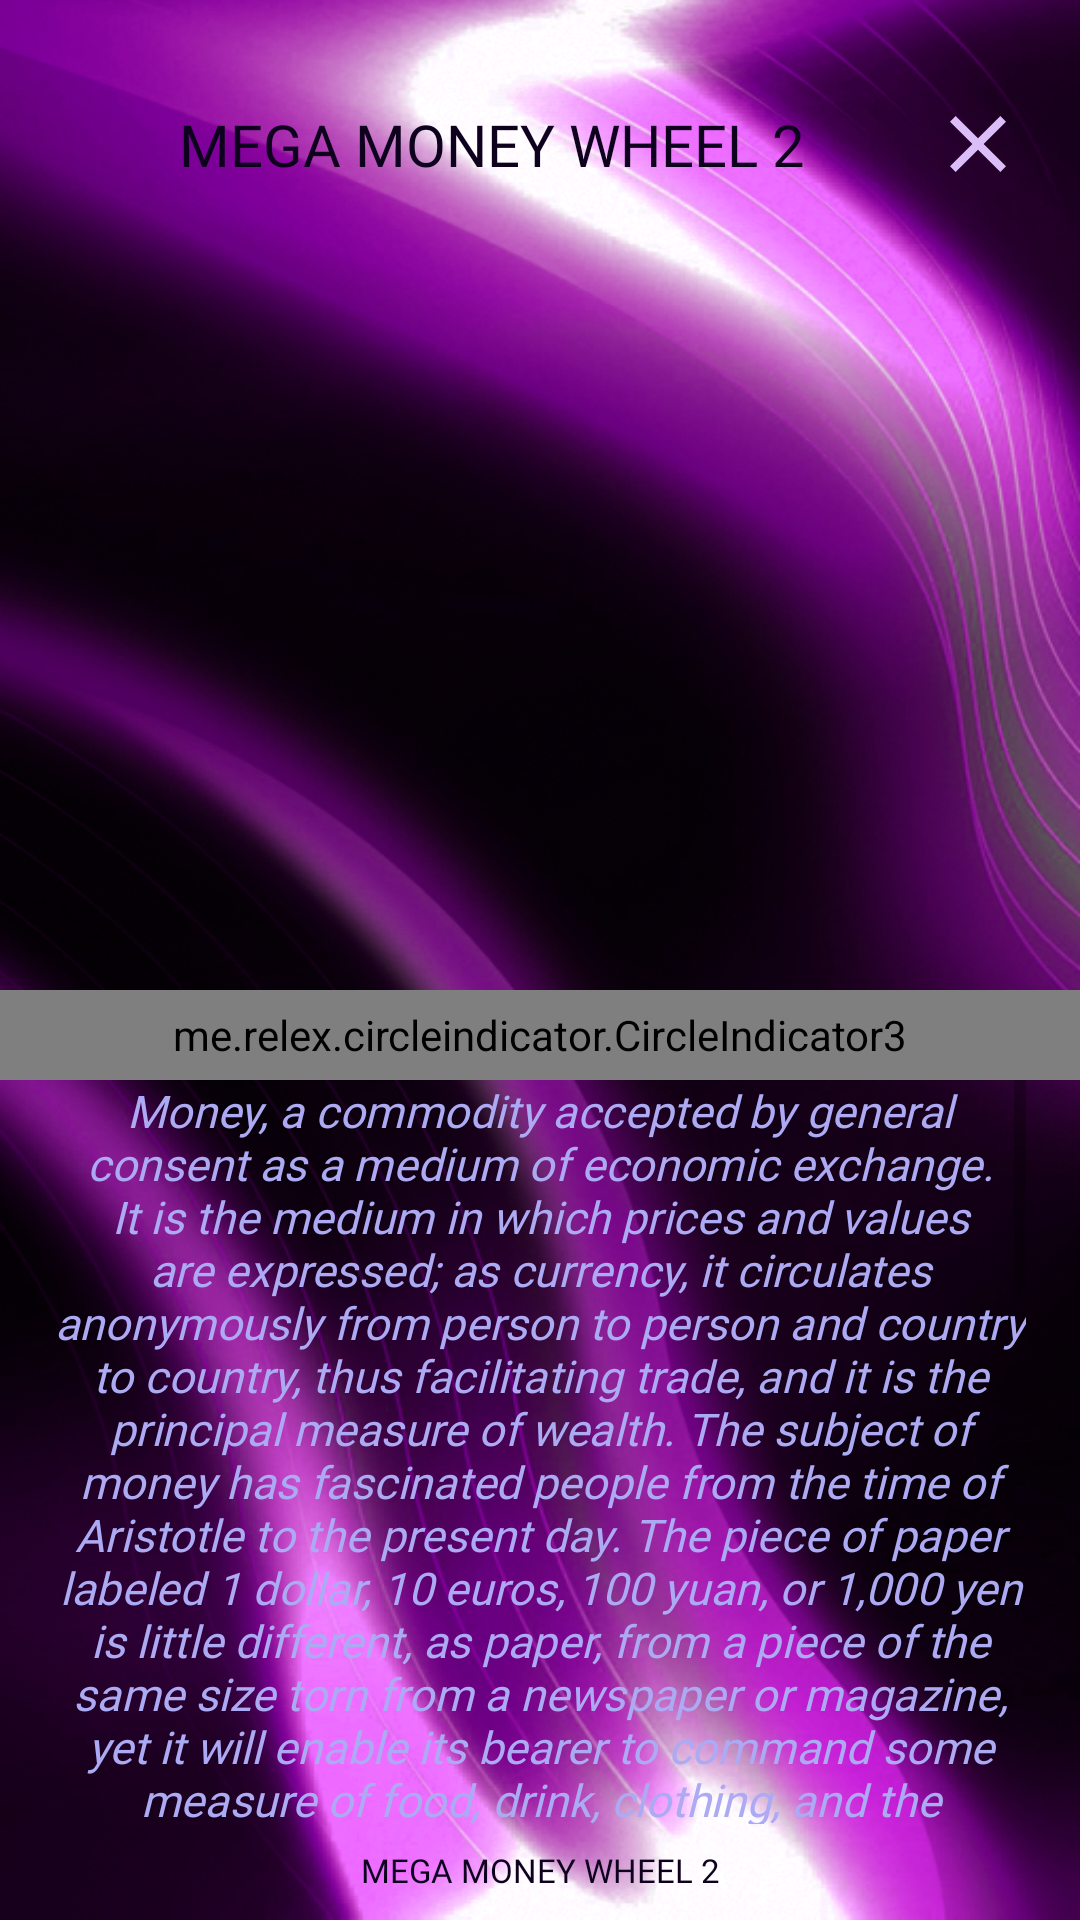

Named icons in this screenshot (1080 × 1920) and their bounding boxes, (x1, y1, x2, y2):
close: (950, 116, 1006, 172)
